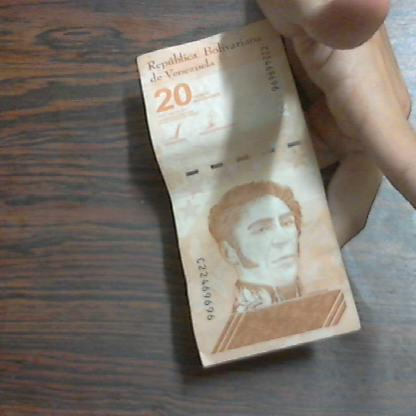twenty-front-vef: (133, 22, 364, 372)
